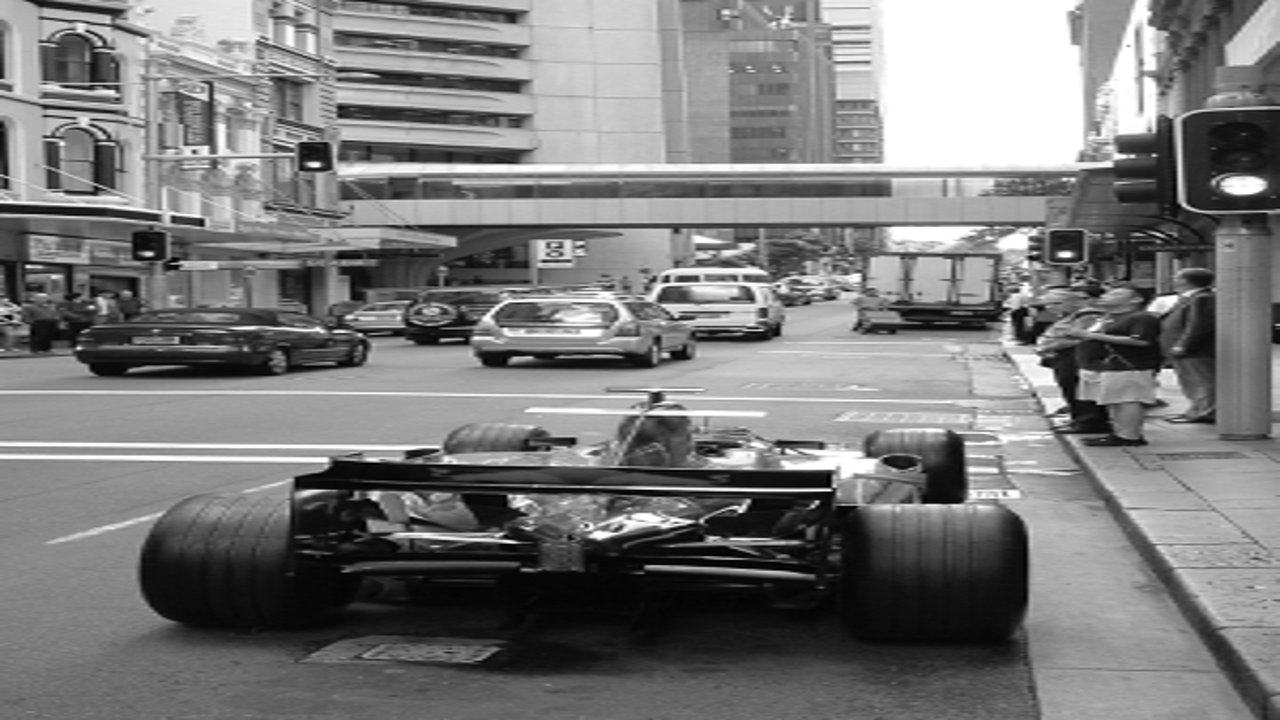license: (127, 330, 184, 350), (520, 322, 583, 338)
